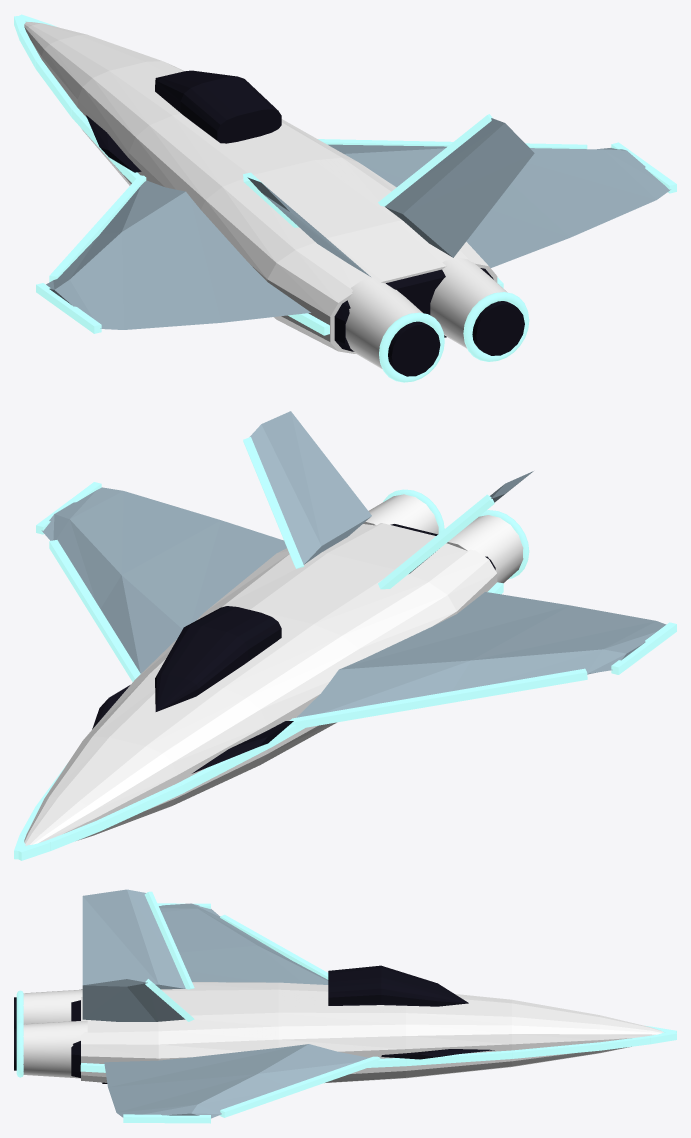
Rendered from player_spectre.glb.
3 renders of one model, top to bottom at view 1: azimuth 30°, elevation 25°; view 2: azimuth 150°, elevation 25°; view 3: azimuth 270°, elevation 25°, orthographic. The views are drawn at different scales.
Visible parts, largest first — view 1: fuselage, wing_port, wing_starboard, tail_fin_starboard, canopy_recess, nozzle_housing_port, nozzle_housing_starboard, nozzle_throat_port, nozzle_throat_starboard, aft_plate, nozzle_trim_port, nozzle_trim_starboard (+7 smaller); view 2: fuselage, wing_starboard, wing_port, tail_fin_starboard, canopy_recess, wing_edge_trim_port, nozzle_housing_port, wing_edge_trim_starboard, nozzle_housing_starboard, tail_fin_trim_port, tail_fin_trim_starboard, hull_trim_port_3 (+3 smaller); view 3: fuselage, wing_starboard, tail_fin_port, wing_port, canopy_recess, tail_fin_starboard, nozzle_housing_starboard, nozzle_housing_port, wing_edge_trim_starboard, tail_fin_trim_port, hull_trim_starboard_4, wing_edge_trim_port (+7 smaller).
Part boxes in pixels (x1,y1,x2,y2): fuselage: (24,22,497,353); wing_port: (46,180,310,329); wing_starboard: (328,144,670,267); tail_fin_starboard: (385,118,534,257); canopy_recess: (155,70,281,143); nozzle_housing_port: (345,278,425,368); nozzle_housing_starboard: (430,257,511,348); nozzle_throat_port: (388,321,440,376); nozzle_throat_starboard: (472,301,524,355); aft_plate: (334,268,493,351); nozzle_trim_port: (379,312,444,382); nozzle_trim_starboard: (463,292,529,361); fuselage: (24,523,497,845); wing_starboard: (41,487,286,673); wing_port: (296,592,666,717); tail_fin_starboard: (250,411,371,564); canopy_recess: (155,606,281,711); wing_edge_trim_port: (289,668,587,729); nozzle_housing_port: (446,515,523,583); wing_edge_trim_starboard: (49,540,140,681); nozzle_housing_starboard: (363,494,438,534); tail_fin_trim_port: (378,494,494,589); tail_fin_trim_starboard: (243,437,304,568); hull_trim_port_3: (97,783,182,830); fuselage: (81,982,663,1083); wing_starboard: (104,1044,368,1118); tail_fin_port: (82,889,185,989); wing_port: (159,903,328,984); canopy_recess: (328,965,468,1006); tail_fin_starboard: (82,979,185,1021); nozzle_housing_starboard: (23,1020,87,1078); nozzle_housing_port: (23,989,82,1024); wing_edge_trim_starboard: (219,1056,380,1117); tail_fin_trim_port: (144,891,194,989); hull_trim_starboard_4: (406,1050,512,1065); wing_edge_trim_port: (220,914,328,979).
Size of the model in its own units: 7.17 by 2.19 by 9.39.
